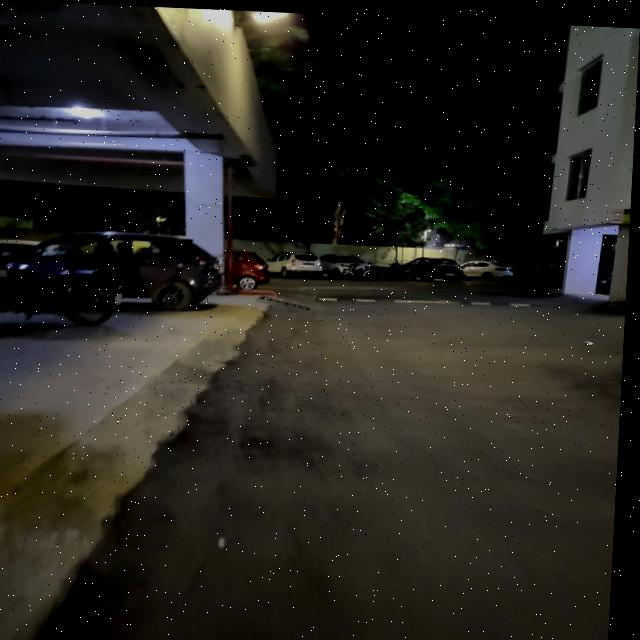bike: (0, 245, 119, 335), (344, 259, 385, 279)
car: (61, 222, 227, 312), (267, 246, 326, 279), (410, 252, 464, 280), (465, 254, 521, 280), (321, 250, 371, 276)
